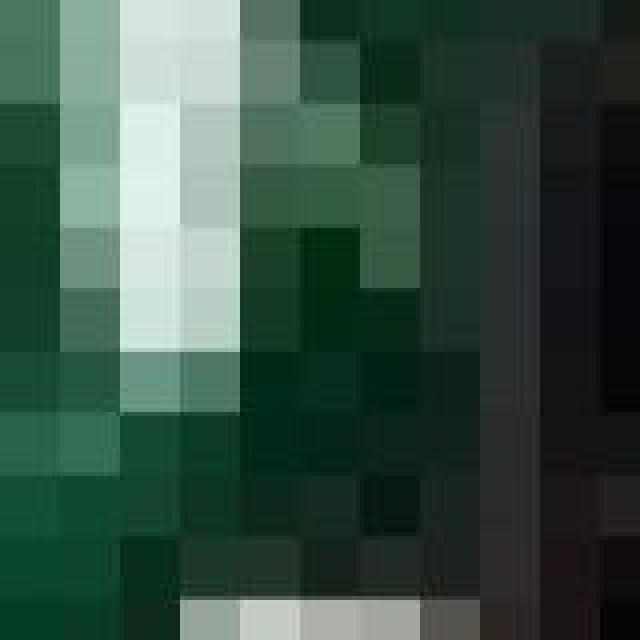transistor: (468, 0, 640, 640)
